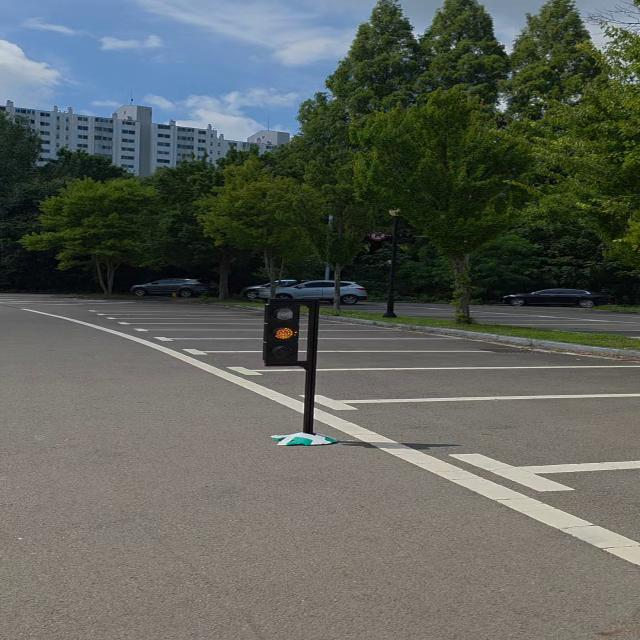yellow: (259, 296, 307, 369)
